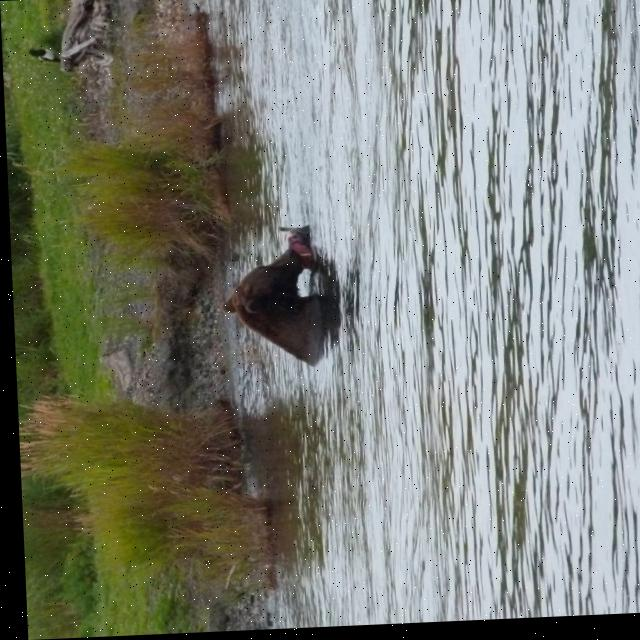bear face: (217, 250, 313, 367)
